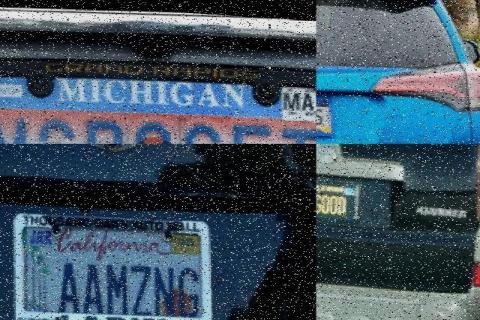LicensePlate: (0, 50, 316, 144), (12, 201, 211, 320), (316, 173, 362, 225), (315, 90, 336, 134)
